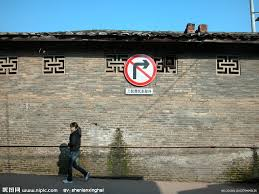No_right_turn: (124, 53, 157, 87)
